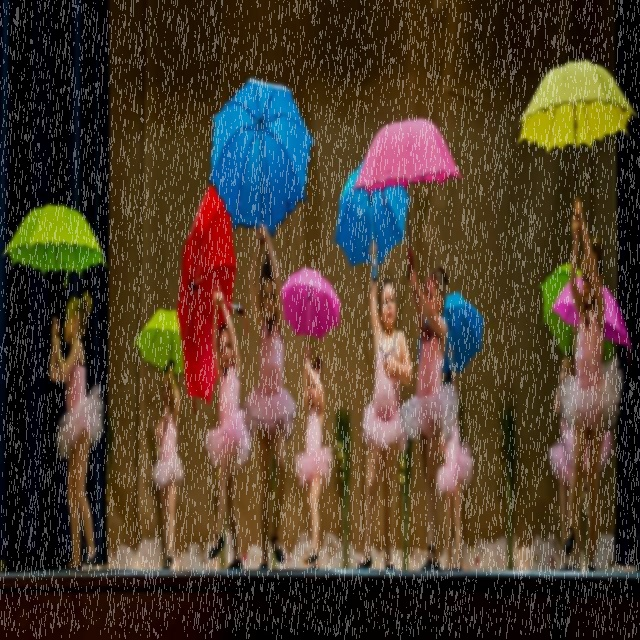pessoa: (558, 192, 624, 587), (354, 234, 412, 584), (400, 244, 460, 572), (242, 220, 298, 570), (48, 288, 104, 573), (203, 282, 253, 570), (564, 307, 614, 573), (294, 344, 334, 570), (436, 341, 474, 573), (148, 356, 186, 575), (547, 350, 577, 573)
